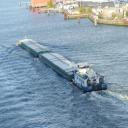tugboat: (72, 62, 109, 97)
